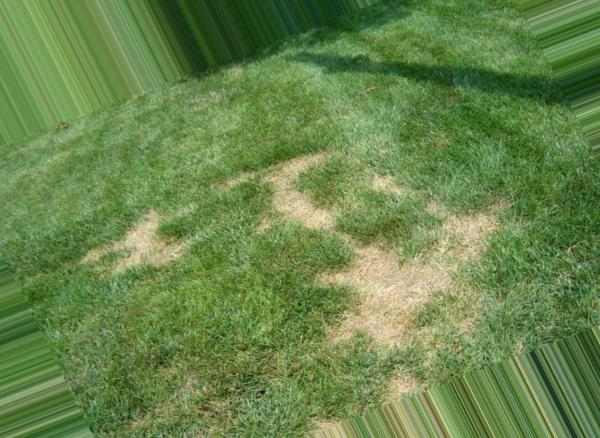patch: (253, 162, 365, 254), (346, 249, 431, 326), (103, 224, 181, 268), (359, 324, 422, 370), (434, 199, 494, 246)
